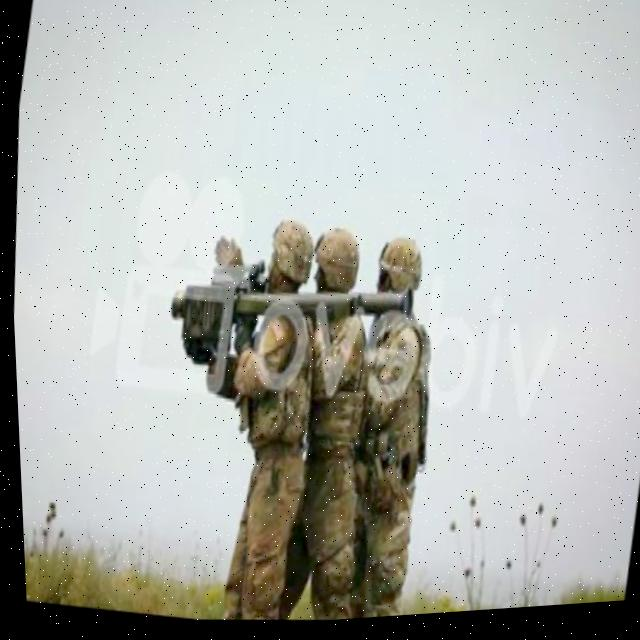rocket: (161, 245, 417, 370)
